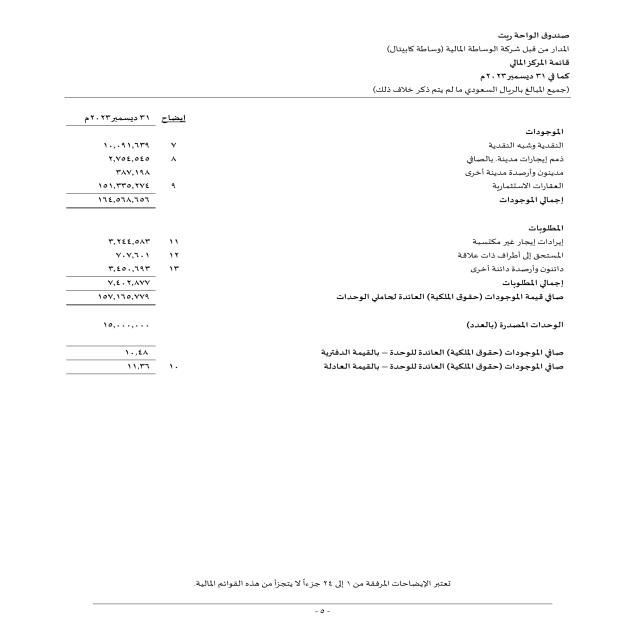financial_sheets: (504, 57, 570, 72)
table: (42, 106, 214, 404)
